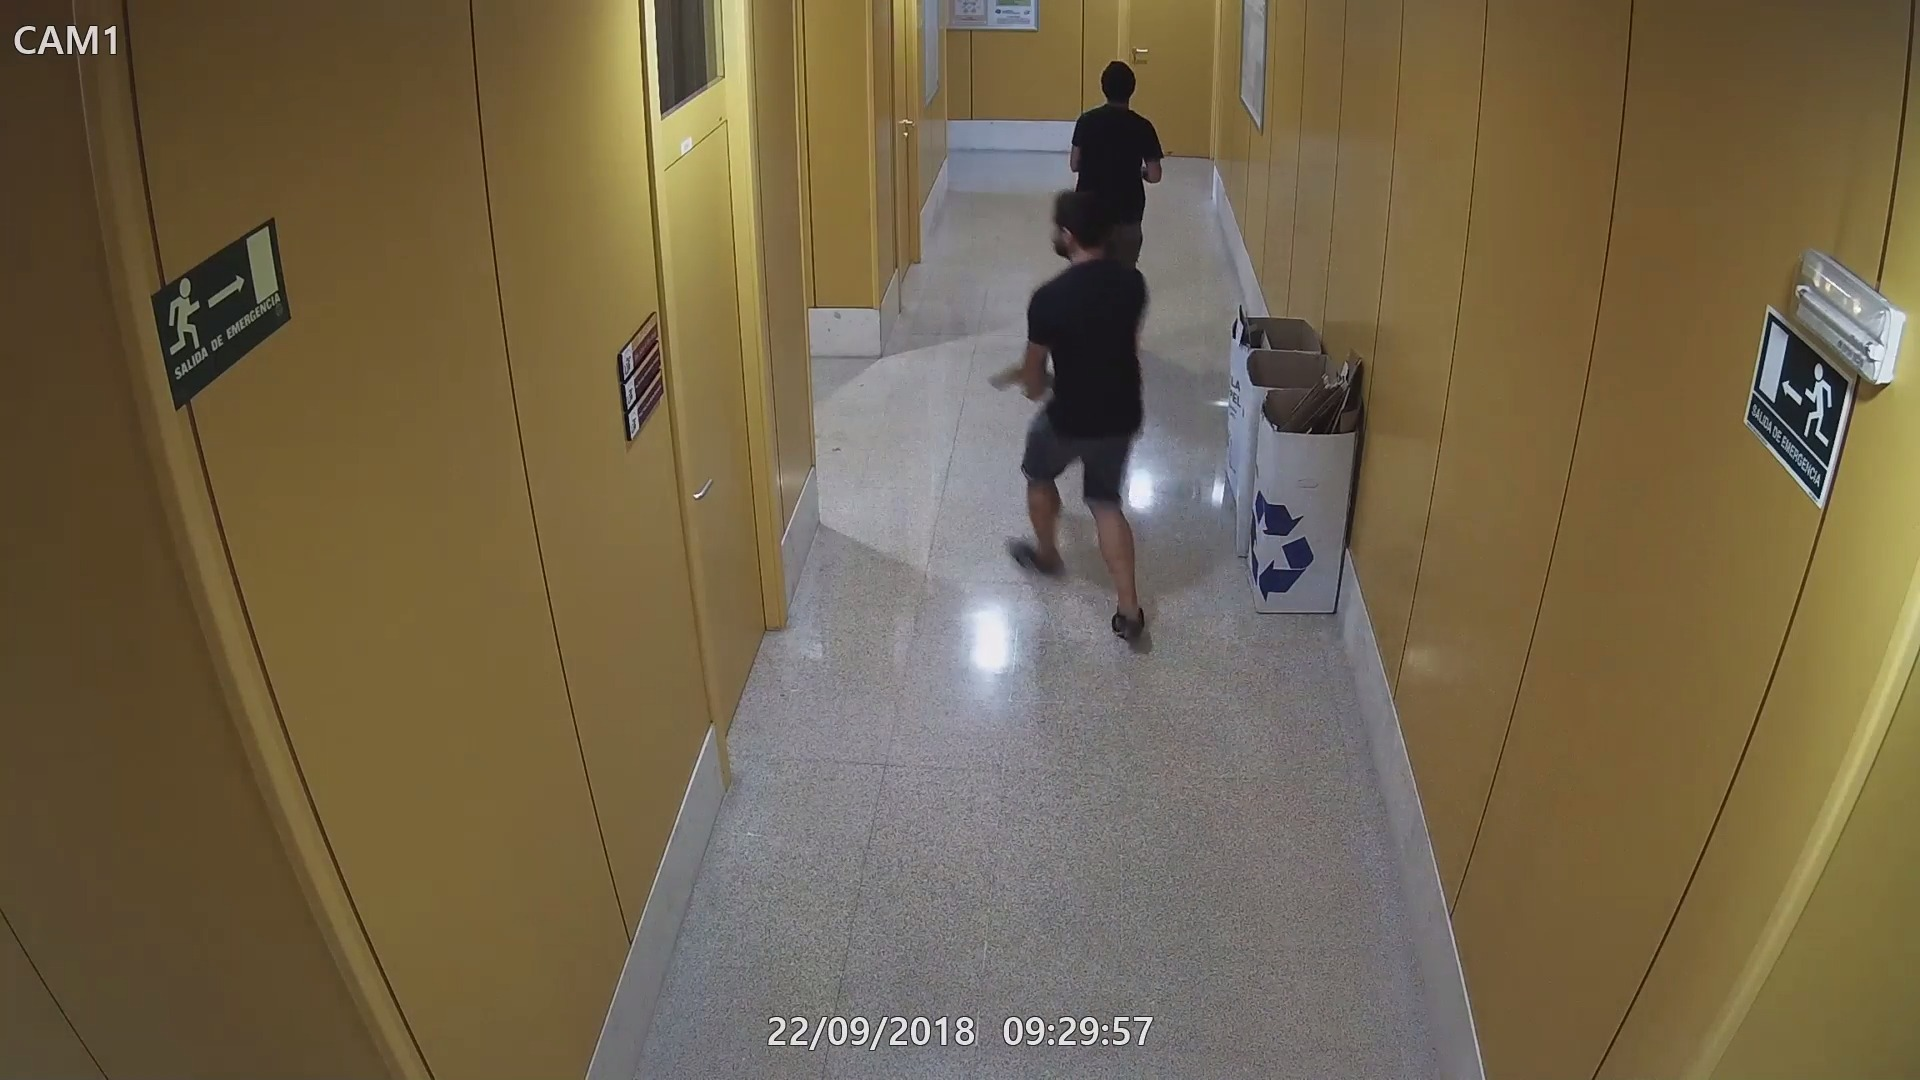Handgun: (986, 351, 1058, 404)
